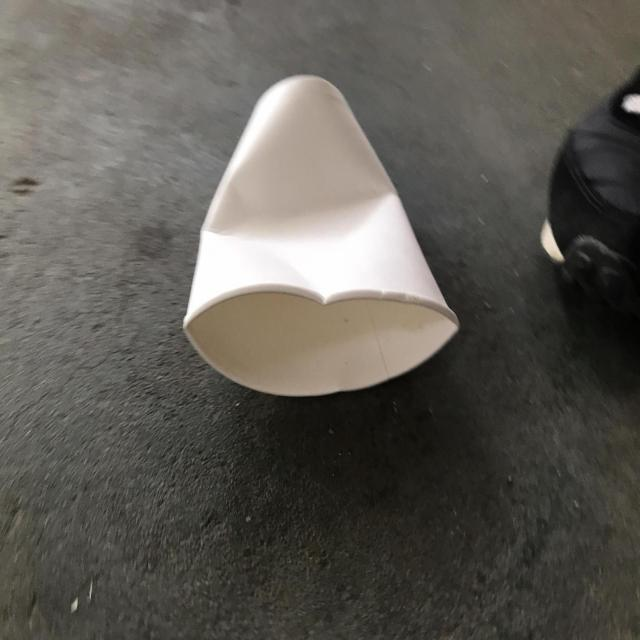paperpack: (183, 75, 459, 396)
